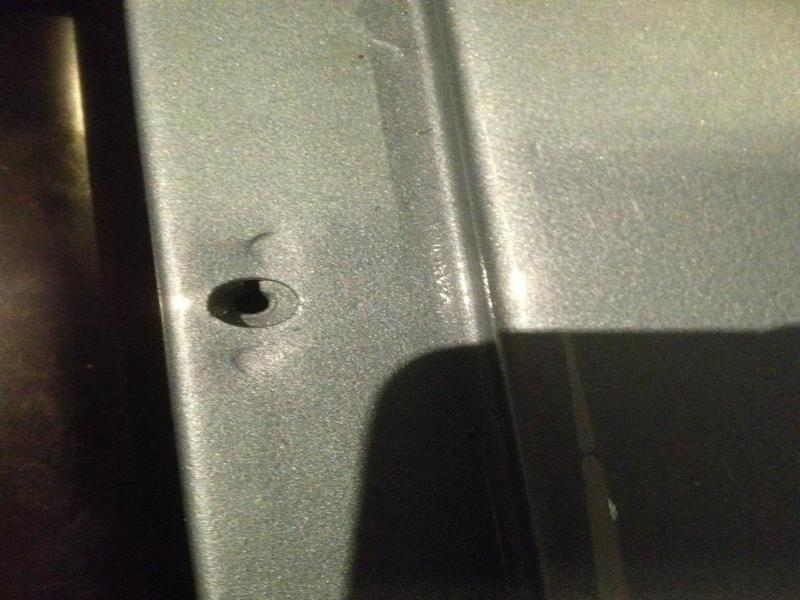hole: (229, 288, 276, 319)
